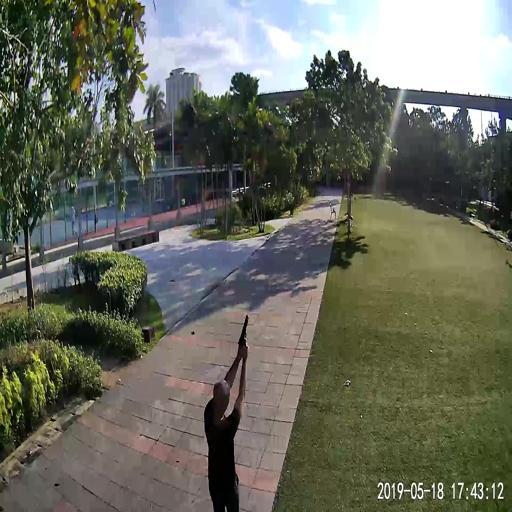Handgun: (235, 310, 248, 348)
